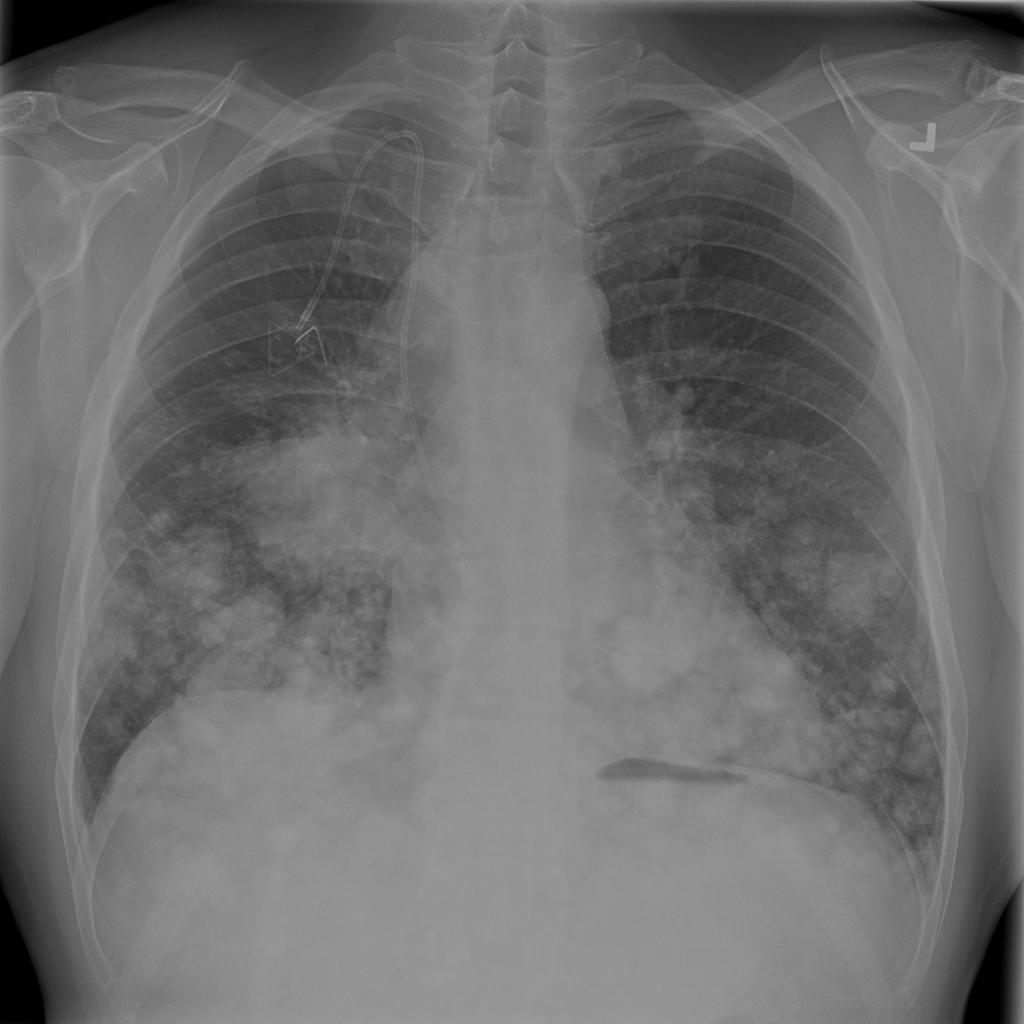nodule: (598, 566, 732, 703), (149, 524, 237, 600), (216, 583, 296, 660), (837, 541, 911, 621), (730, 642, 805, 716), (774, 513, 841, 590), (892, 710, 955, 786), (749, 423, 816, 491), (126, 651, 172, 707), (92, 699, 139, 753), (661, 370, 711, 420), (861, 655, 909, 706), (132, 495, 184, 541)
